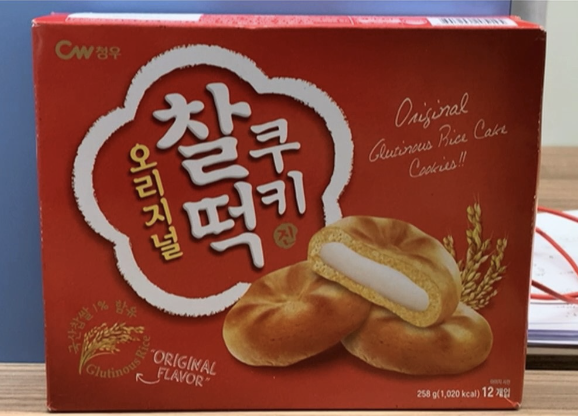cookies_150g: (54, 41, 523, 404)
